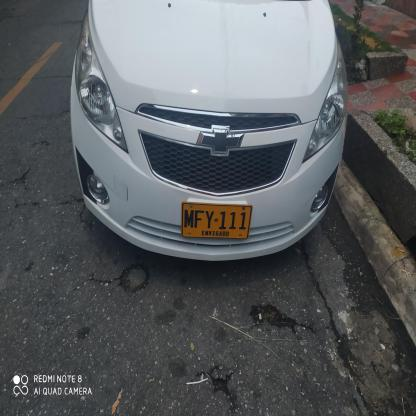placa: (178, 198, 254, 244)
